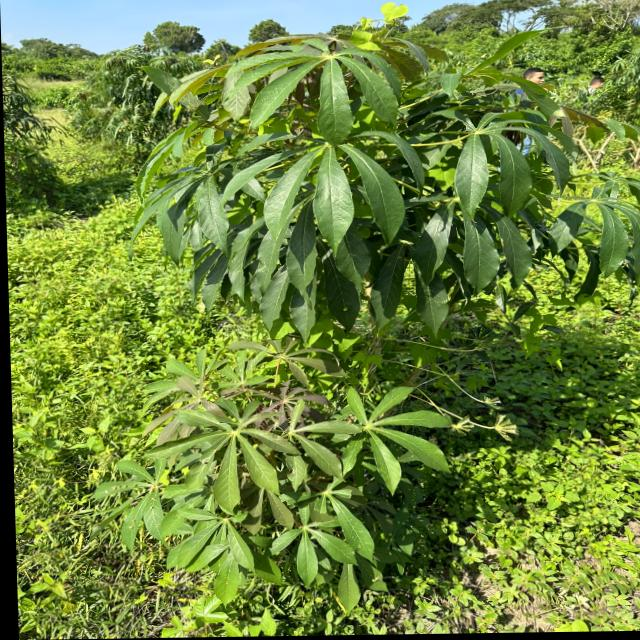Maleza: (6, 171, 140, 434), (488, 314, 640, 535), (459, 454, 610, 640), (17, 557, 159, 640)
Mosca: (215, 94, 236, 110), (212, 457, 234, 471), (422, 467, 437, 486), (102, 485, 127, 495), (339, 304, 352, 318), (317, 236, 331, 249), (522, 181, 536, 193), (216, 372, 230, 383), (126, 518, 136, 528)
